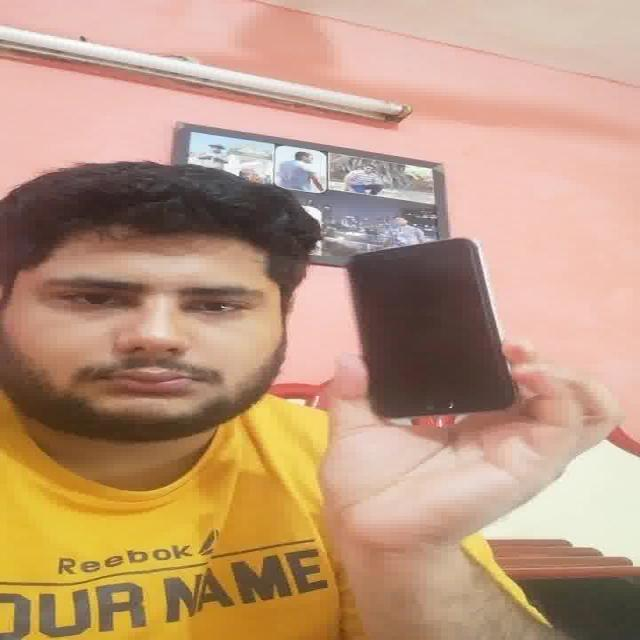Phone: (346, 235, 520, 417)
